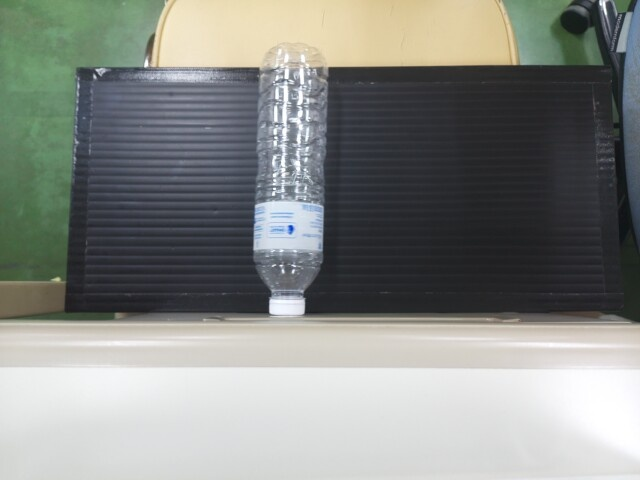plastic_bottle: (255, 44, 326, 317)
